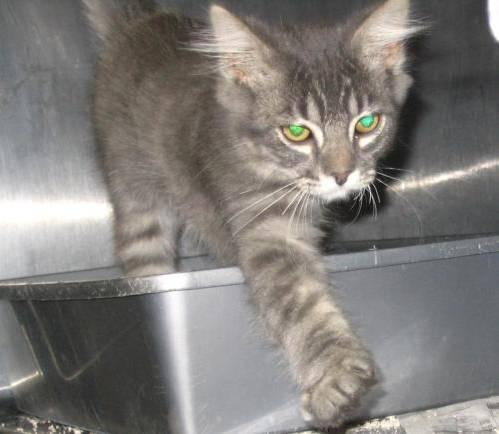cat: (83, 0, 426, 427)
